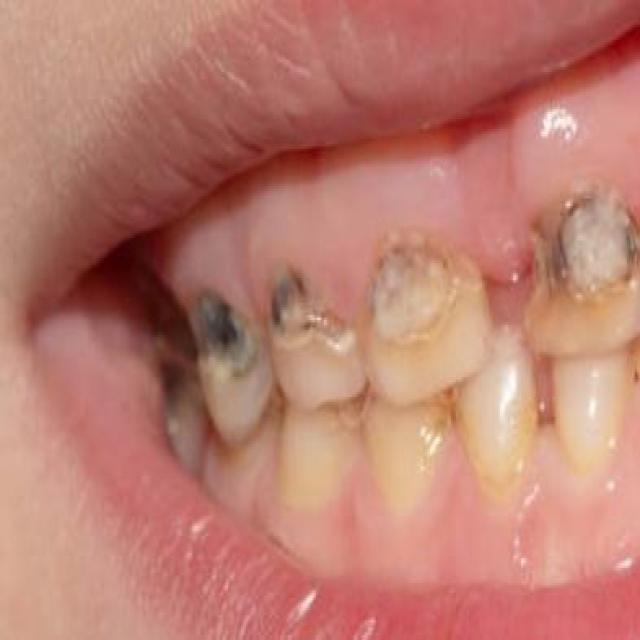caries: (533, 189, 640, 353), (364, 230, 468, 388), (268, 261, 358, 408), (185, 277, 261, 430), (157, 340, 205, 465), (423, 382, 477, 466)
